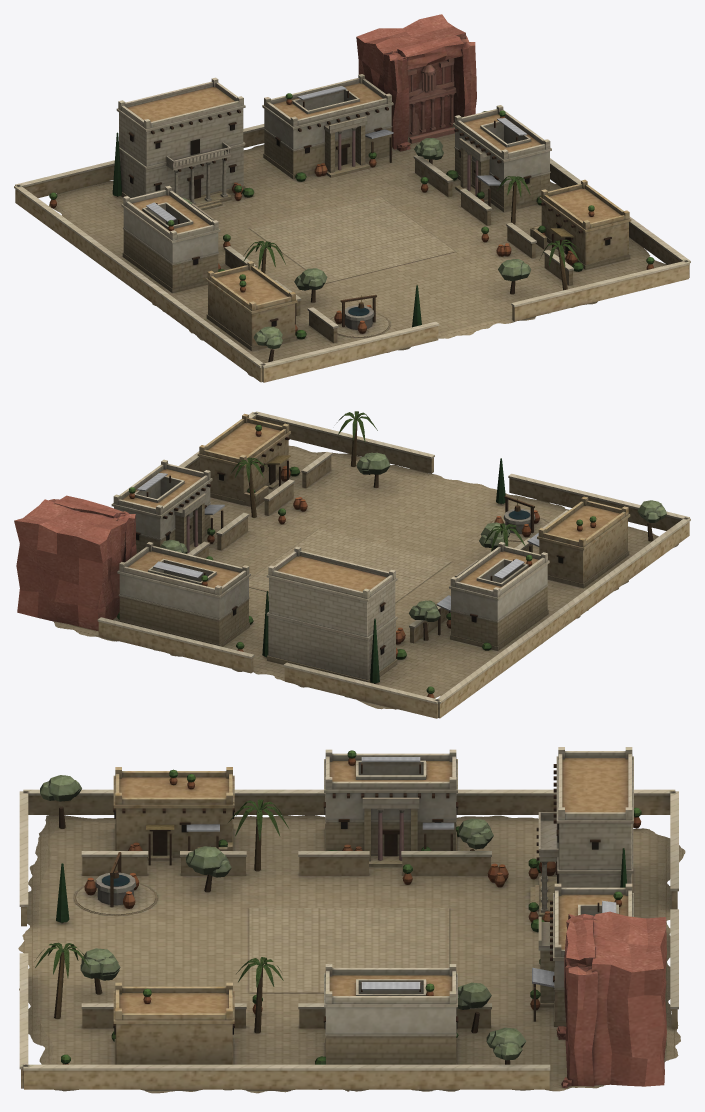
The model's file is classical-town-small-b-levant.glb.
The picture shows the model from 3 angles, top to bottom: view 1: azimuth 30°, elevation 25°; view 2: azimuth 150°, elevation 25°; view 3: azimuth 270°, elevation 25°; orthographic projection. The views are drawn at different scales.
Visible parts, largest first — view 1: LOD0; view 2: LOD0; view 3: LOD0.
Part boxes in pixels (left/top/right/bottom): LOD0: left=14, top=14, right=690, bottom=382; LOD0: left=14, top=411, right=690, bottom=718; LOD0: left=18, top=747, right=685, bottom=1093.
Size of what is drawn, in the model's own units: 4.02 by 0.835 by 4.06.
Materials: 3 (3 with a texture image).
